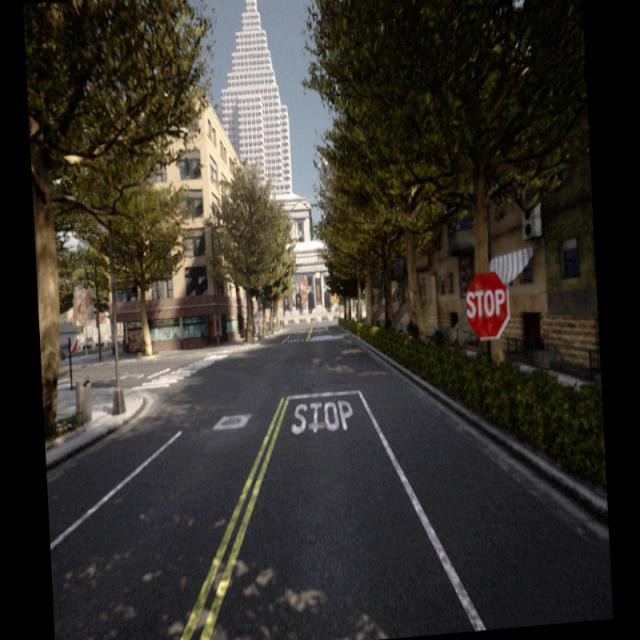stop sign: (462, 268, 512, 342), (464, 286, 506, 319)
